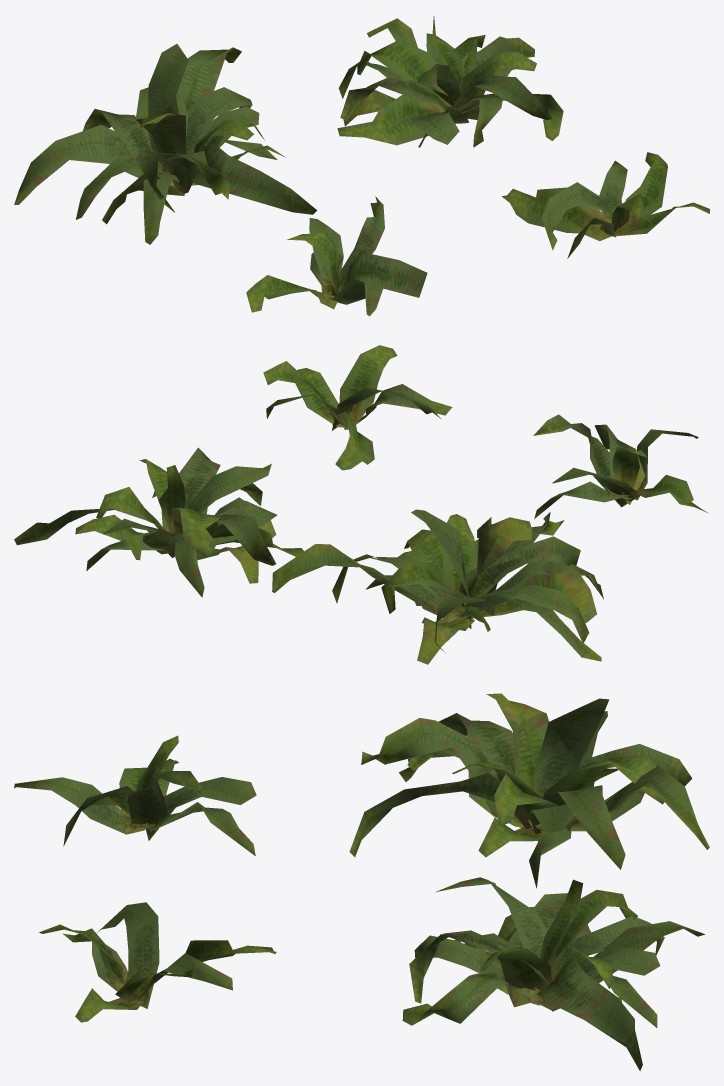
Rendered from duong-xi.glb.
3 renders of one model, top to bottom at view 1: azimuth 30°, elevation 25°; view 2: azimuth 150°, elevation 25°; view 3: azimuth 270°, elevation 25°, orthographic. The views are drawn at different scales.
Parts seen in each view (by area): view 1: fern_02_b, fern_02_c, fern_02_d, fern_02_a; view 2: fern_02_b, fern_02_c, fern_02_d, fern_02_a; view 3: fern_02_b, fern_02_c, fern_02_a, fern_02_d.
Part boxes in pixels (bbox=[...]): fern_02_b: bbox=[14, 44, 316, 244]; fern_02_c: bbox=[337, 16, 563, 147]; fern_02_d: bbox=[502, 152, 709, 258]; fern_02_a: bbox=[246, 196, 427, 316]; fern_02_b: bbox=[272, 509, 603, 664]; fern_02_c: bbox=[14, 447, 304, 597]; fern_02_d: bbox=[263, 345, 452, 470]; fern_02_a: bbox=[533, 414, 707, 518]; fern_02_b: bbox=[349, 693, 709, 888]; fern_02_c: bbox=[402, 877, 704, 1070]; fern_02_a: bbox=[14, 735, 256, 855]; fern_02_d: bbox=[39, 902, 276, 1022].
Size of the model in its own units: 1 by 0.2168 by 0.874.
1 material, 1 textured.
